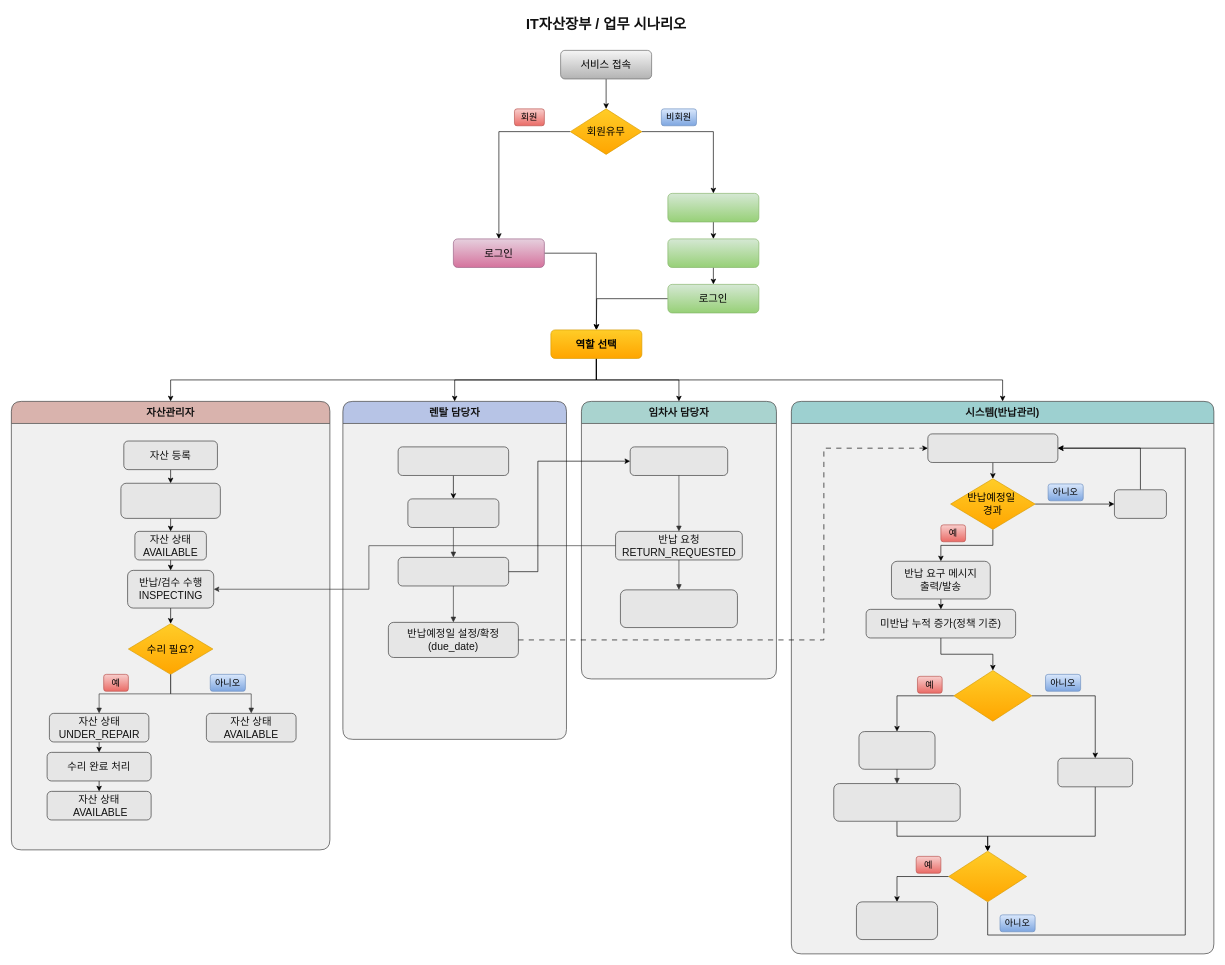
Image size: 1225x965. Some labels were removed from this diagram. The shapes that lost their labels are listed below. From the top down, each one's centre as x and y in pixels, then its label:
At (713,207): "이용약관 동의".
At (713,252): "회원가입".
At (453,460): "렌탈 계약 생성".
At (679,460): "대여 확인".
At (992,447): "대여 상태 모니터링".
At (170,500): "자산 개별 등록 (시리얼/자산태그)".
At (453,512): "자산 할당 ASSIGNED".
At (1140,503): "대기".
At (453,571): "물품 대여/출고 OUT".
At (678,608): "반납요구/경고 메시지 확인".
At (992,695): "누적 ≥ 3회".
At (896,750): "경고 메시지 출력/발송".
At (1095,772): "경고 없음".
At (896,802): "제재 적용(선택) (대여 제한/승인 보류 등)".
At (987,876): "검수 완료".
At (897,920): "모니터링 종료".
